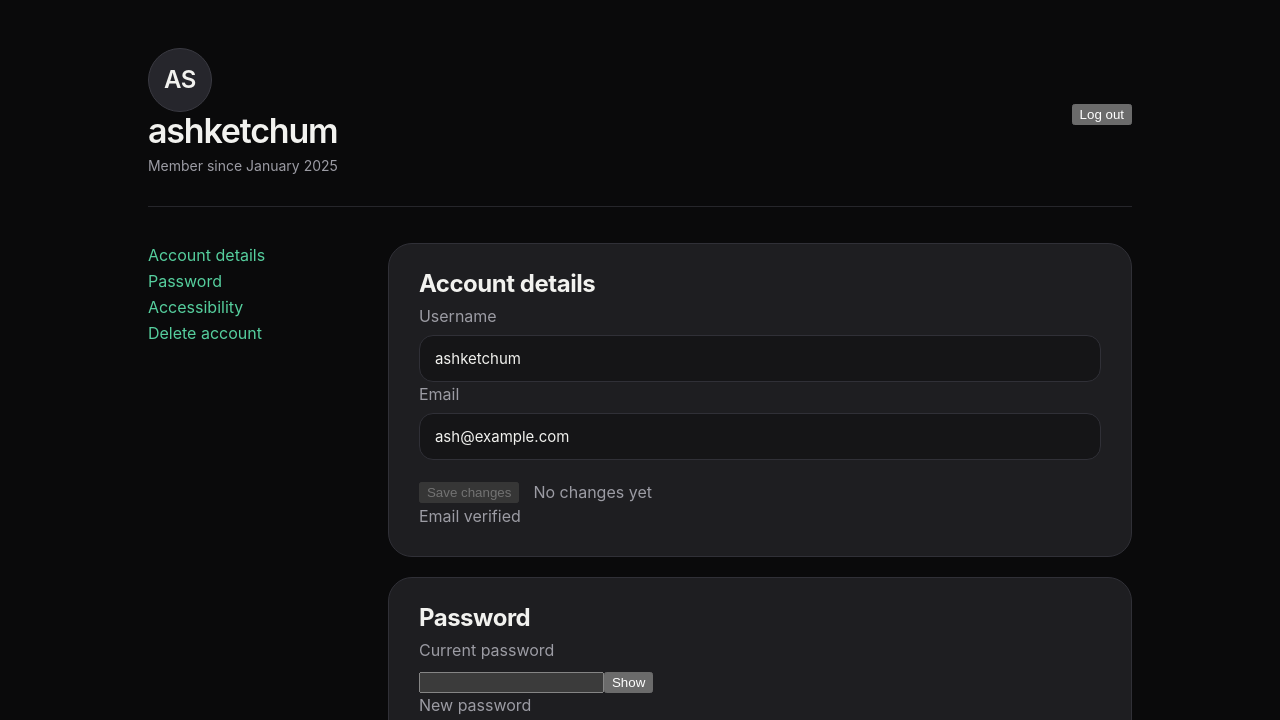
Test: Profile › keeps Save disabled with "No changes yet" until a field changes, then saves only changed fields
Expected: the heading "ashketchum" is shown, [148,112,338,149]
Expected: the button "Save changes" is disabled, [419,482,519,503]
Type "x" into the field labelled "Username". click: (760, 359)
box: [419,335,1101,382]
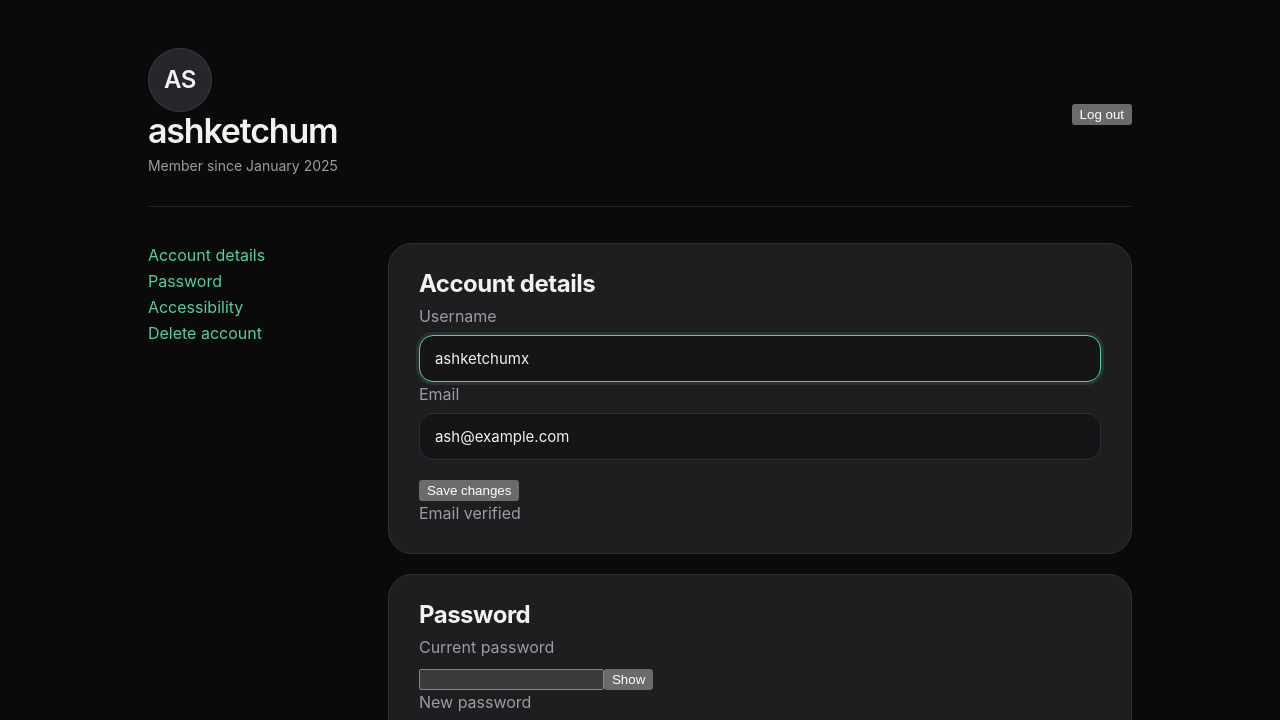
Expected: the button "Save changes" is enabled
Click the button "Save changes". click: (469, 491)
box: [419,480,519,501]
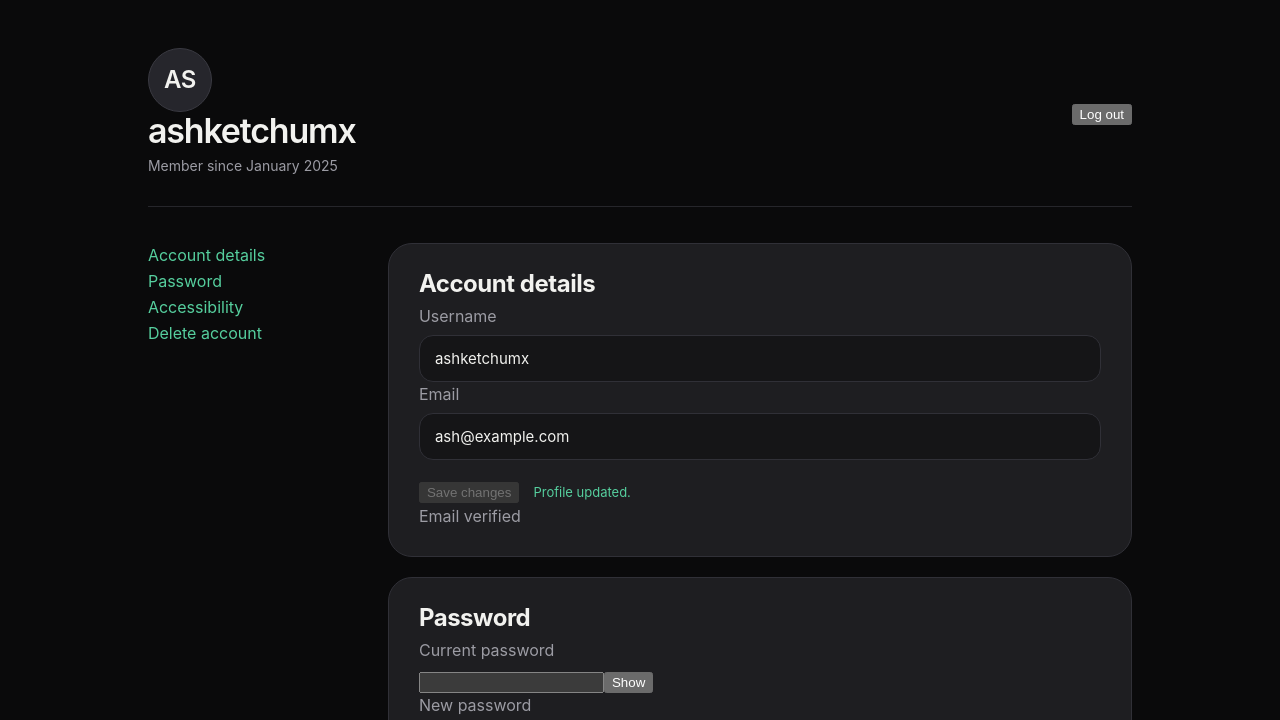
Expected: the text "Profile updated." is shown, [533,480,631,504]
